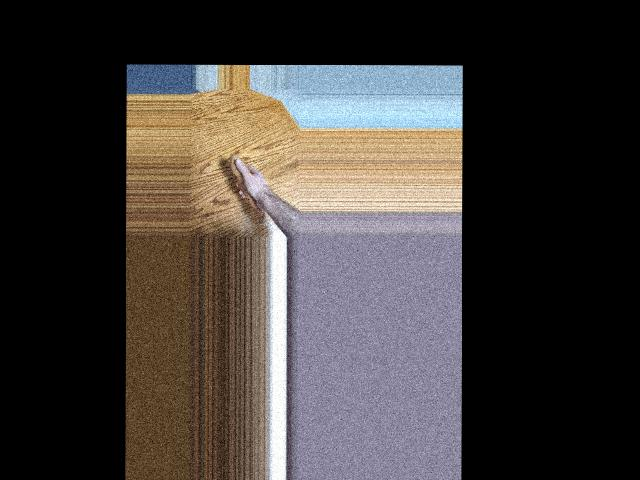sweet_potato: (227, 153, 268, 228)
